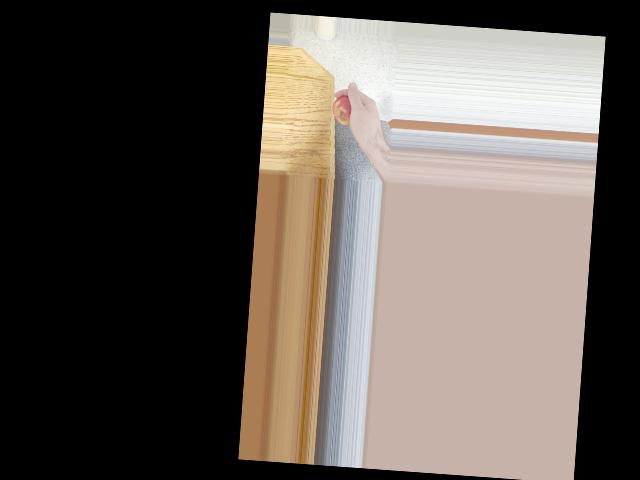apple: (329, 93, 363, 128)
